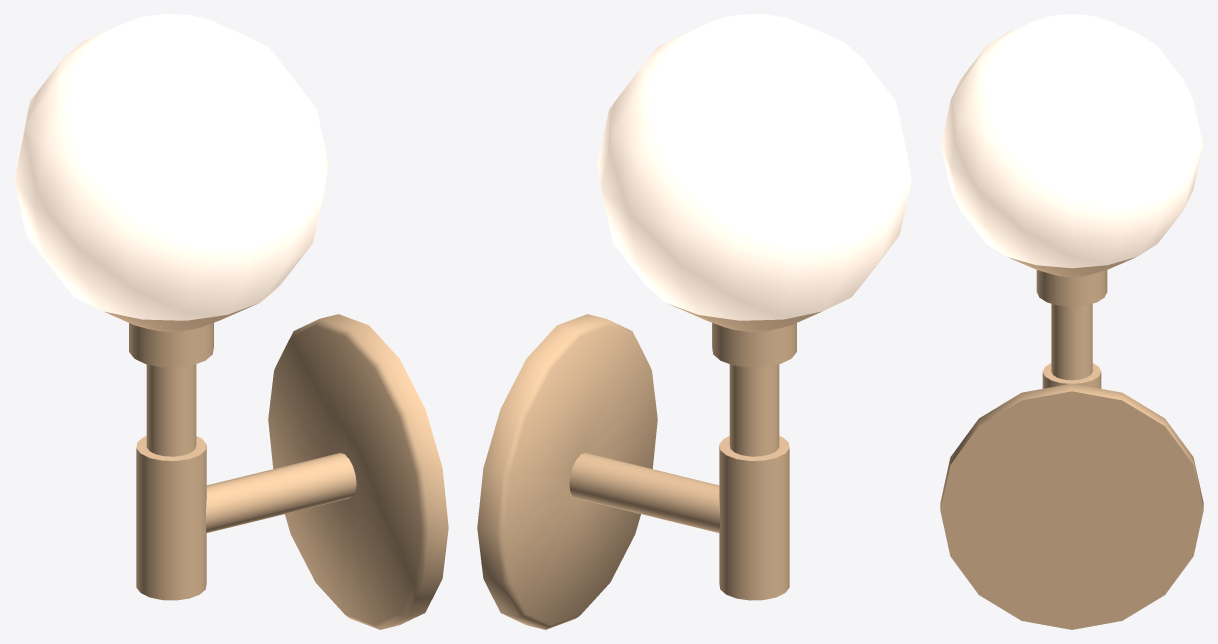
The model's file is Wall_Sconce_Indoor.glb.
The picture shows the model from 3 angles, left to right: view 1: azimuth 30°, elevation 25°; view 2: azimuth 150°, elevation 25°; view 3: azimuth 270°, elevation 25°; orthographic projection. The views are drawn at different scales.
Visible parts, largest first — view 1: WallSconce; view 2: WallSconce; view 3: WallSconce.
Boxes of the visible parts, x1,y1,x2,y2 form: WallSconce: (14, 14, 448, 629); WallSconce: (477, 14, 911, 629); WallSconce: (940, 14, 1203, 629).
Size of what is drawn, in the model's own units: 0.6156 by 1.11 by 0.5068.
